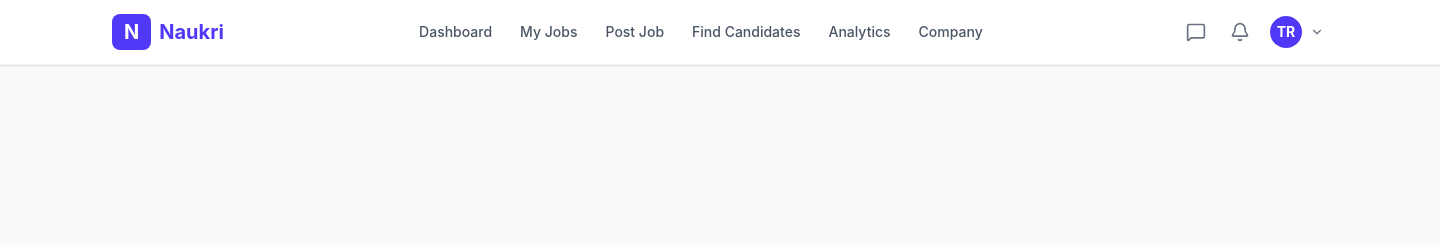
Navbar — recruiter › shows recruiter role in dropdown
Step 1. Click the button "TR" → (1297, 32), box [1266,12,1328,52]
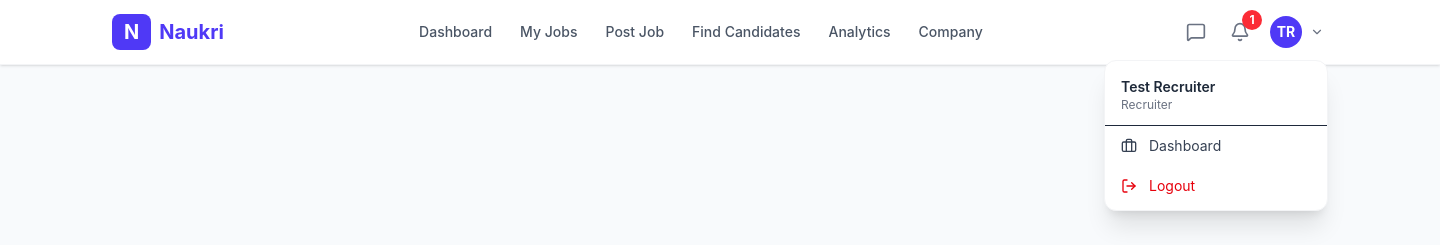
Result: the text "recruiter" is shown at [1121,97,1172,112]
